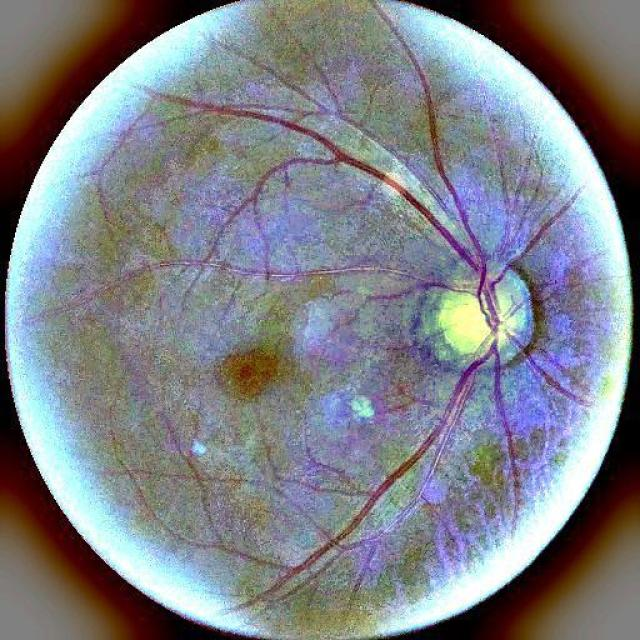Macula: (209, 345, 299, 408)
Nerves: (170, 11, 581, 594), (516, 332, 584, 404)
Optic Disk: (425, 246, 533, 373)
